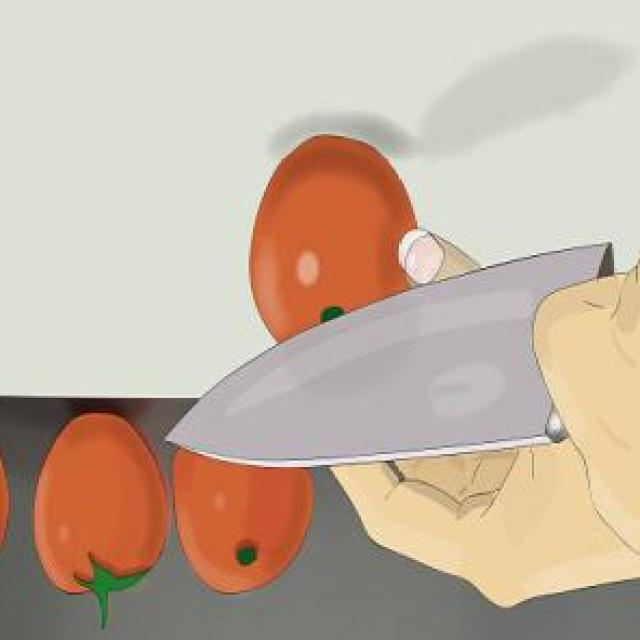knife: (160, 234, 640, 469)
